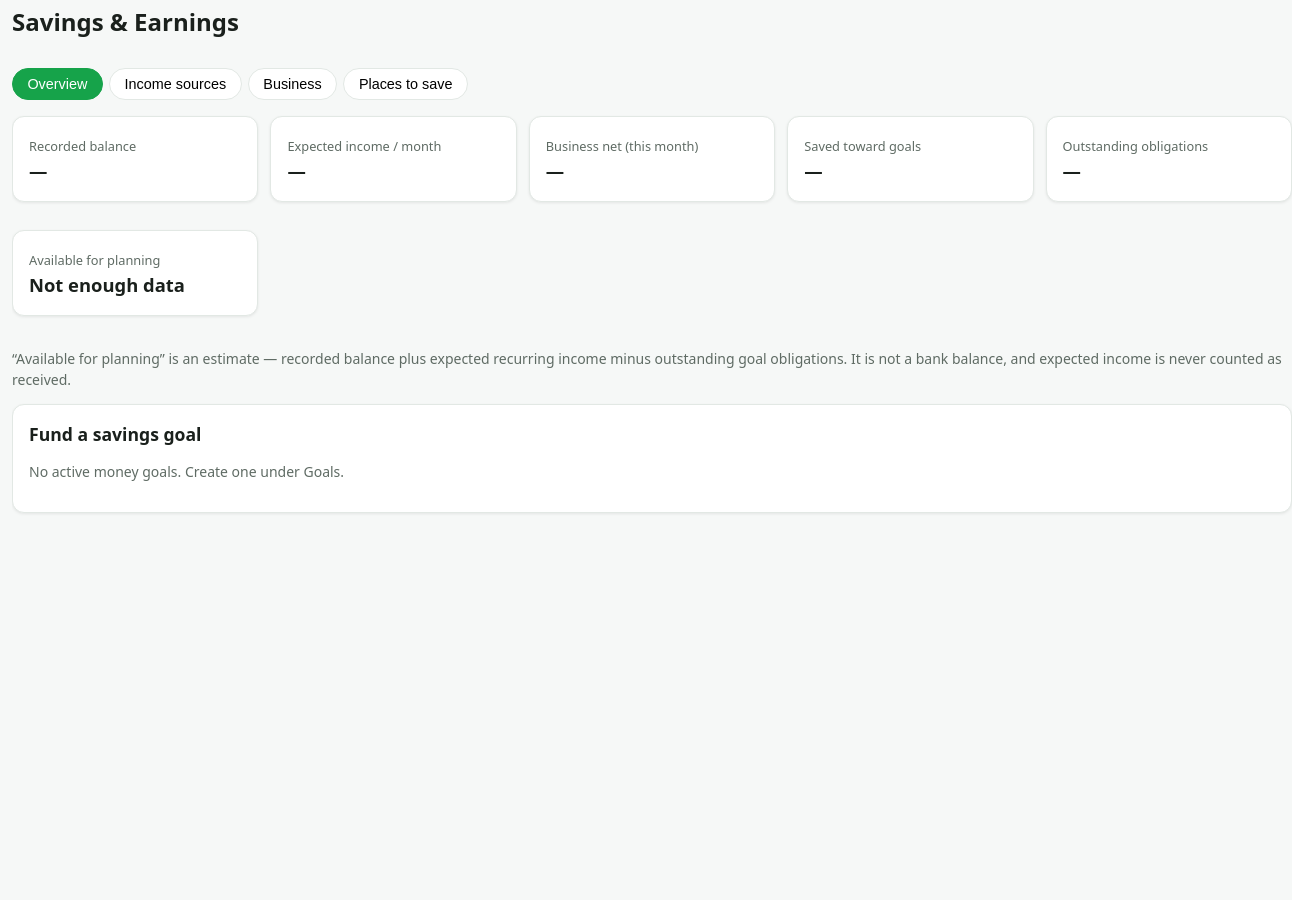
Test: EarningsPage › gives a betting site a link and a record, but no rate and no promise
This screenshot has width=1292, height=900.
Click the tab "Places to save": (406, 84) [344,68,468,100]
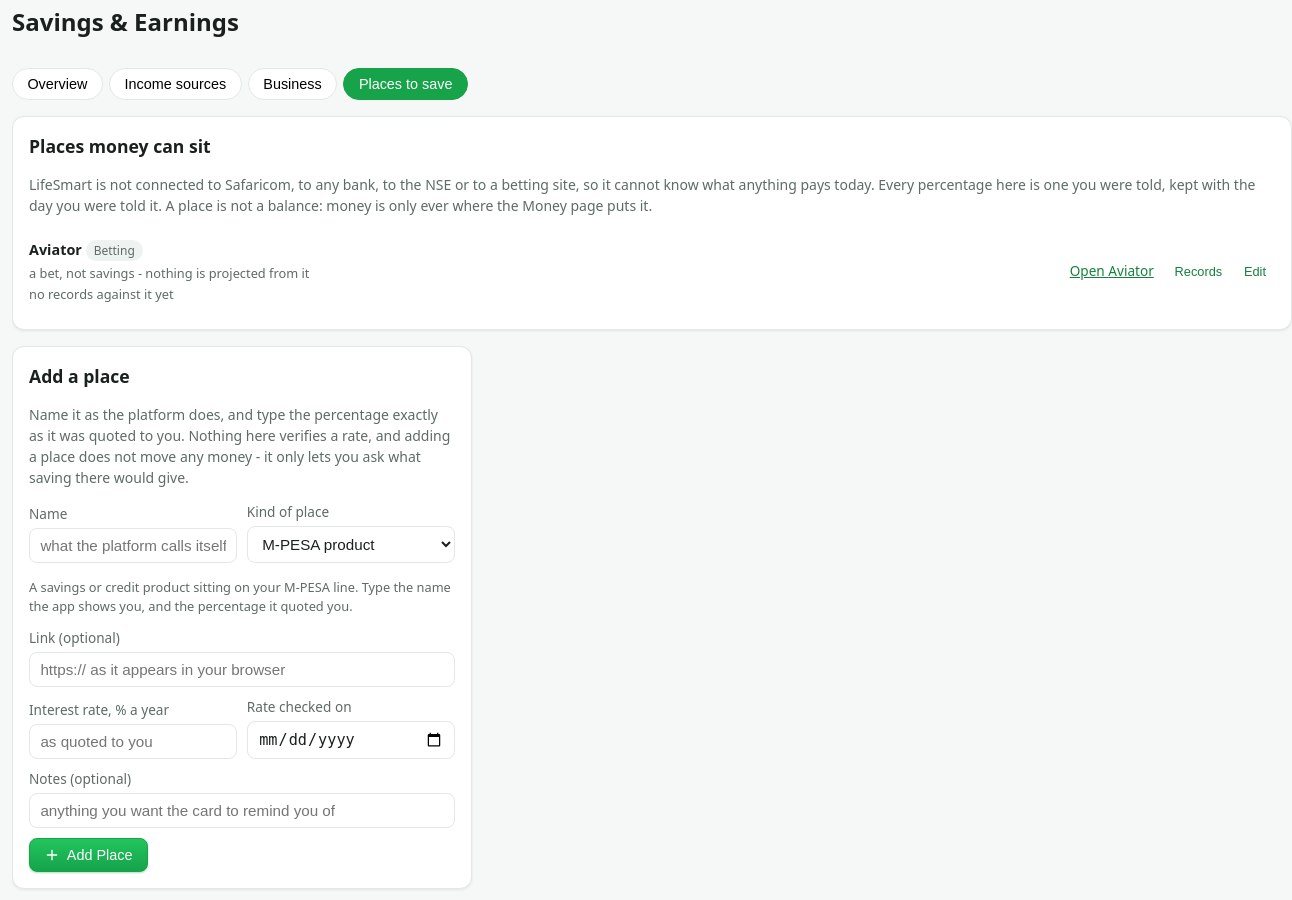
Check: the text "a bet, not savings - nothing is projected from it" is shown, box [29,264,309,283]
Note: What it cost can still be written down, in the site's own words.
Click the button "Records": (1198, 272) [1166,260,1231,283]
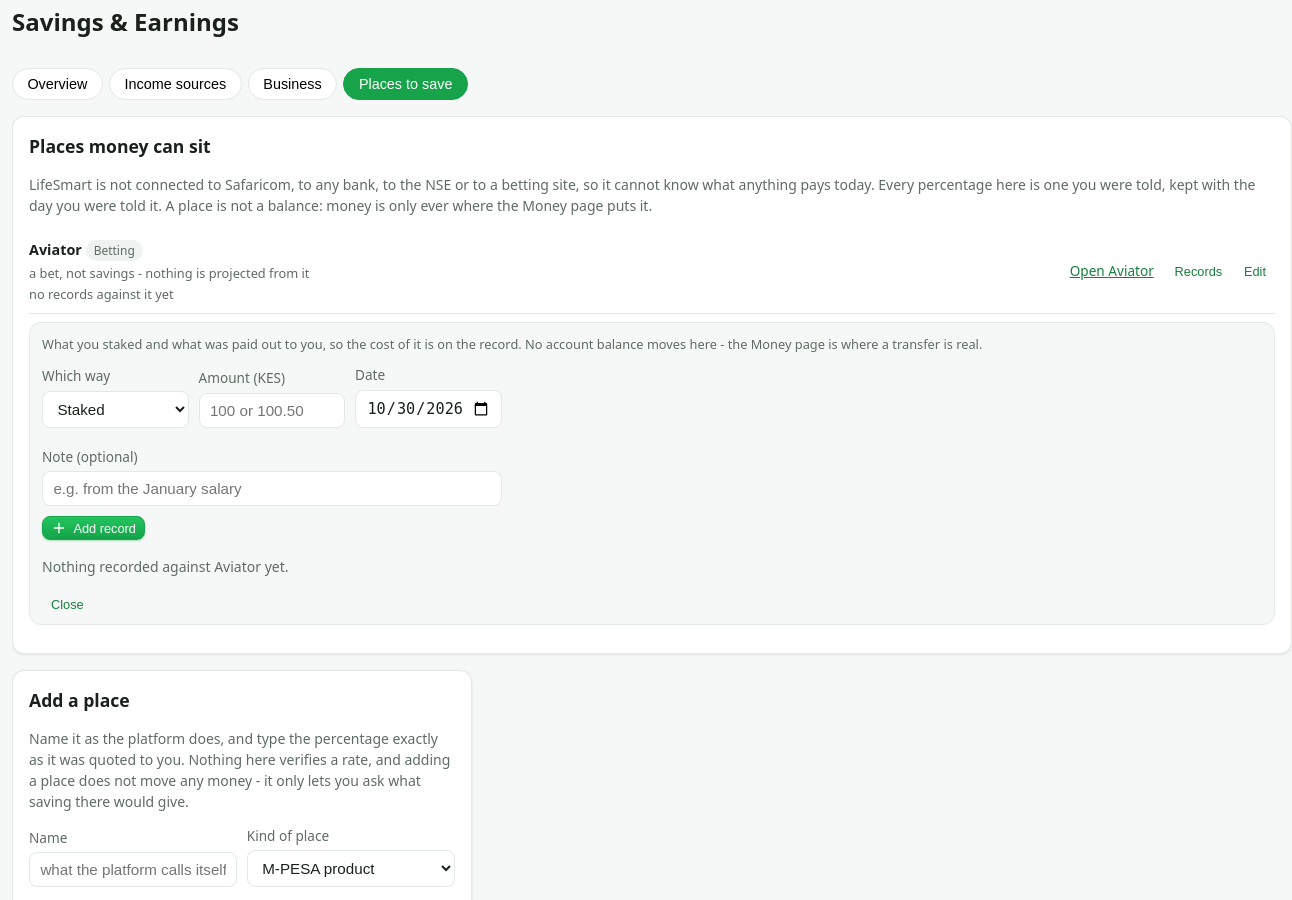
Check: the text "What you staked and what was paid out" is shown, box [42,335,982,353]
